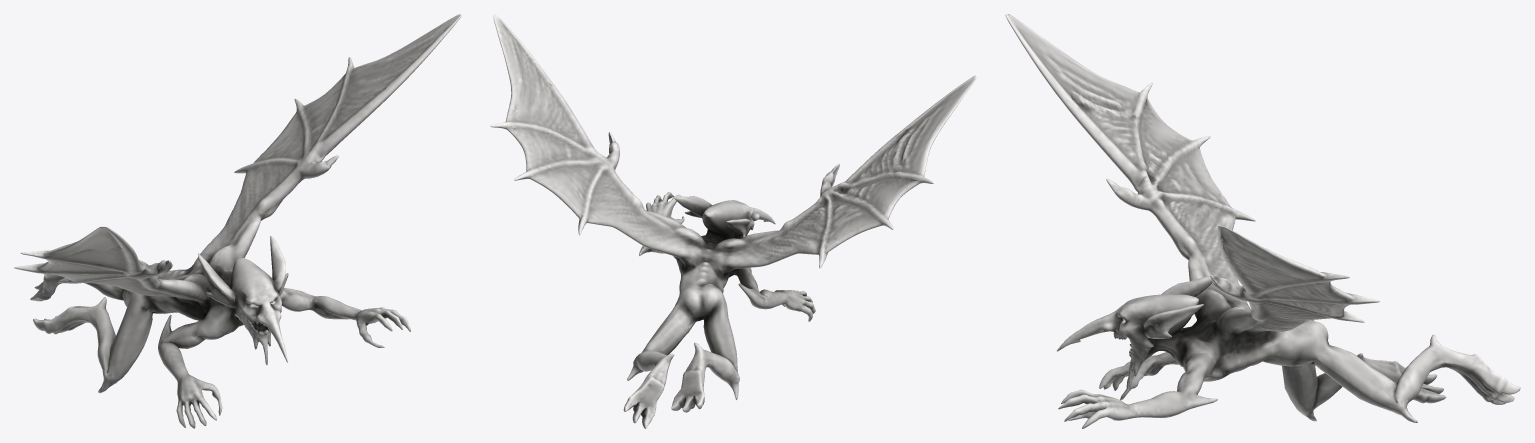
Rendered from MZ4250 - Steam Mephit_4 2025.glb.
3 views of the same model, side by side, from view 1: azimuth 30°, elevation 25°; view 2: azimuth 150°, elevation 25°; view 3: azimuth 270°, elevation 25° (orthographic). The views are drawn at different scales.
Parts seen in each view (by area): view 1: Cylinder.001; view 2: Cylinder.001; view 3: Cylinder.001.
Boxes of the visible parts, x1,y1,x2,y2 form: Cylinder.001: (14,14,461,428); Cylinder.001: (490,14,976,428); Cylinder.001: (1005,14,1520,428).
Size of the model in its own units: 123 by 82.81 by 105.
1 material, 1 textured.
